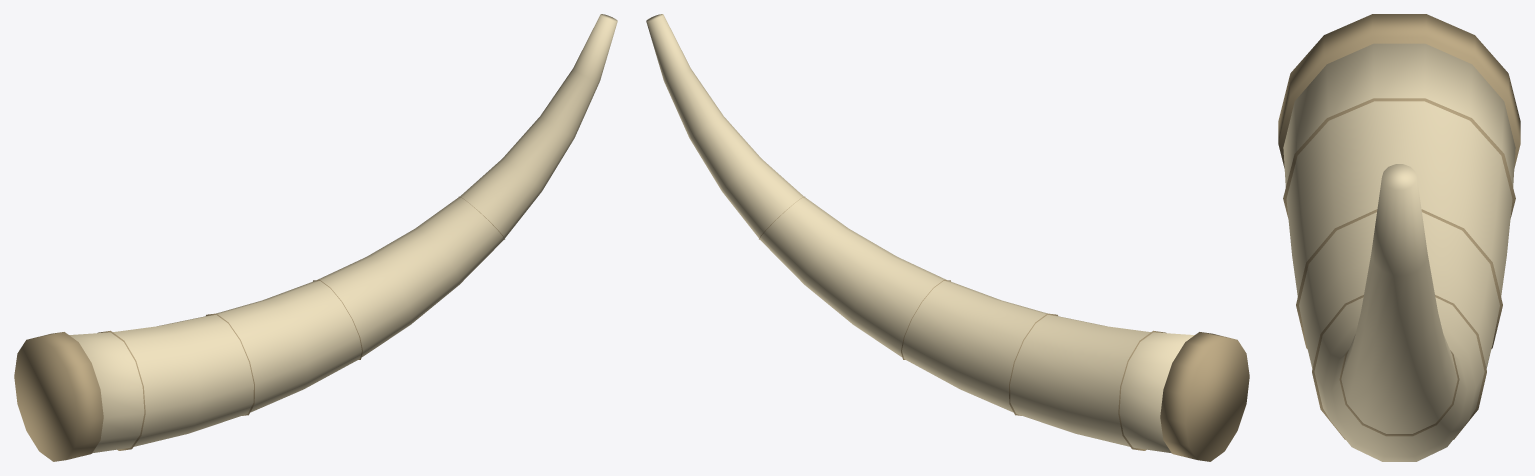
Rendered from fossil-mammoth-tusk.glb.
3 renders of one model, left to right at view 1: azimuth 30°, elevation 25°; view 2: azimuth 150°, elevation 25°; view 3: azimuth 270°, elevation 25°, orthographic. The views are drawn at different scales.
Parts seen in each view (by area): view 1: fossil; view 2: fossil; view 3: fossil.
Part boxes in pixels (x1,y1,x2,y2): fossil: (14,14,617,461); fossil: (646,14,1249,461); fossil: (1278,14,1520,461).
Size of the model in its own units: 0.4687 by 0.244 by 0.0915.
